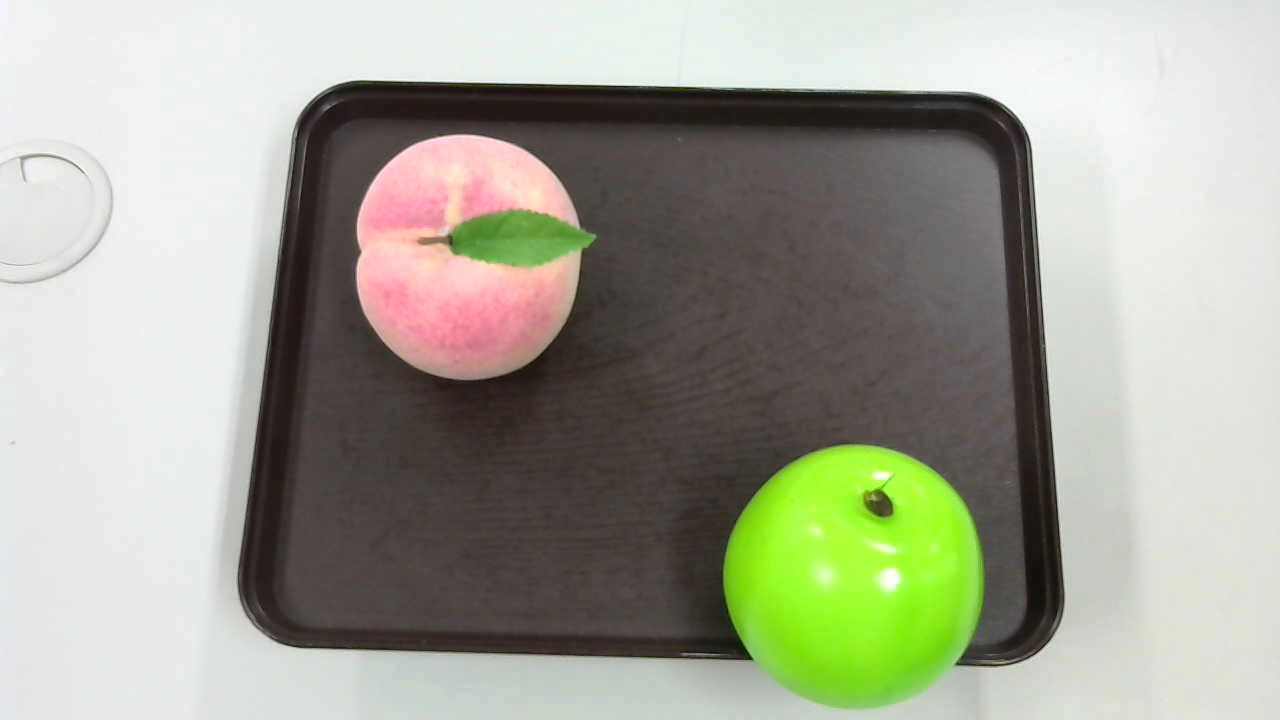green apple: (716, 442, 986, 705)
peach: (356, 130, 596, 386)
